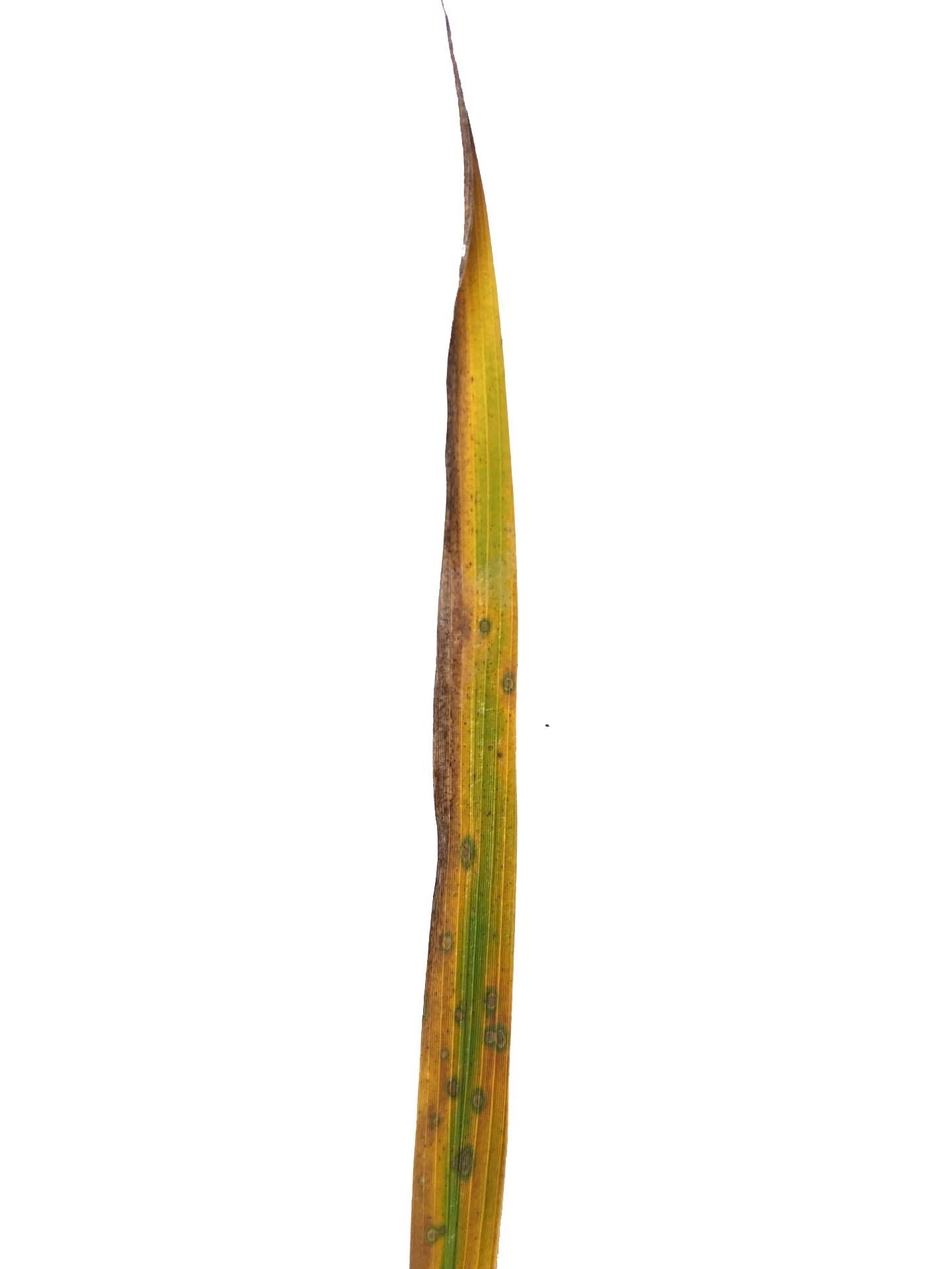Rice blast: (403, 241, 476, 1233)
Tungro: (442, 5, 516, 1043)
